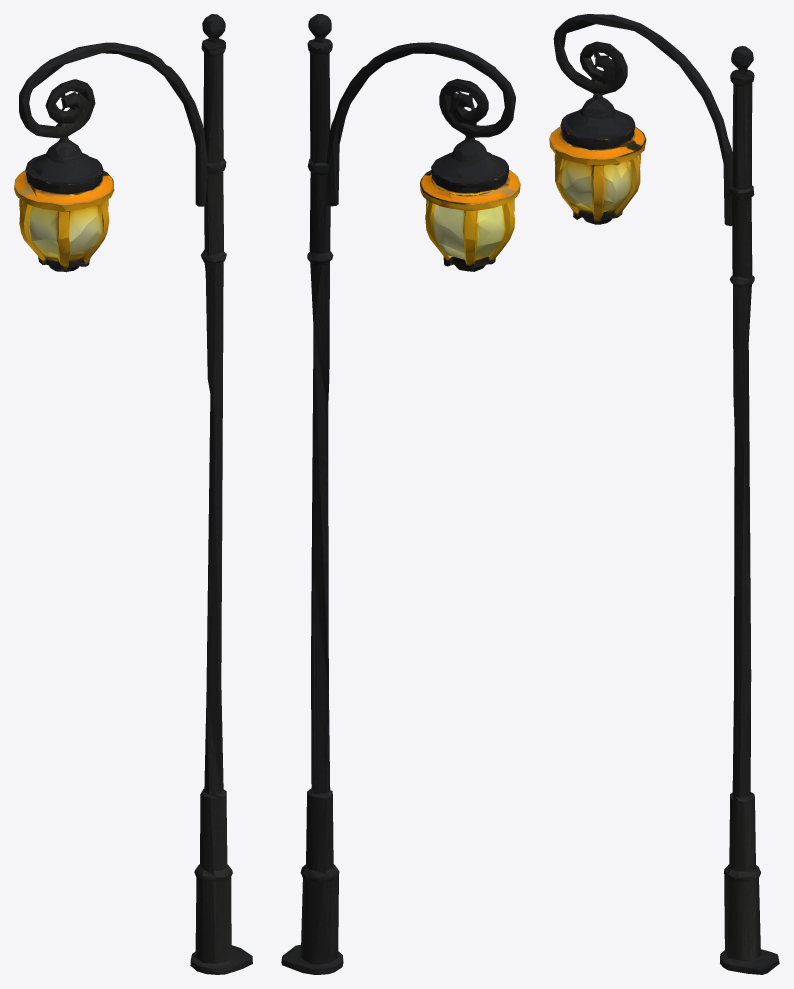
Rendered from post.glb.
The picture shows the model from 3 angles, left to right: view 1: azimuth 30°, elevation 25°; view 2: azimuth 150°, elevation 25°; view 3: azimuth 330°, elevation 25°; orthographic projection. The views are drawn at different scales.
Bounding box in the file's own units: 0.4755 × 1.9 × 0.1807.
Materials: 1 (1 with a texture image).
